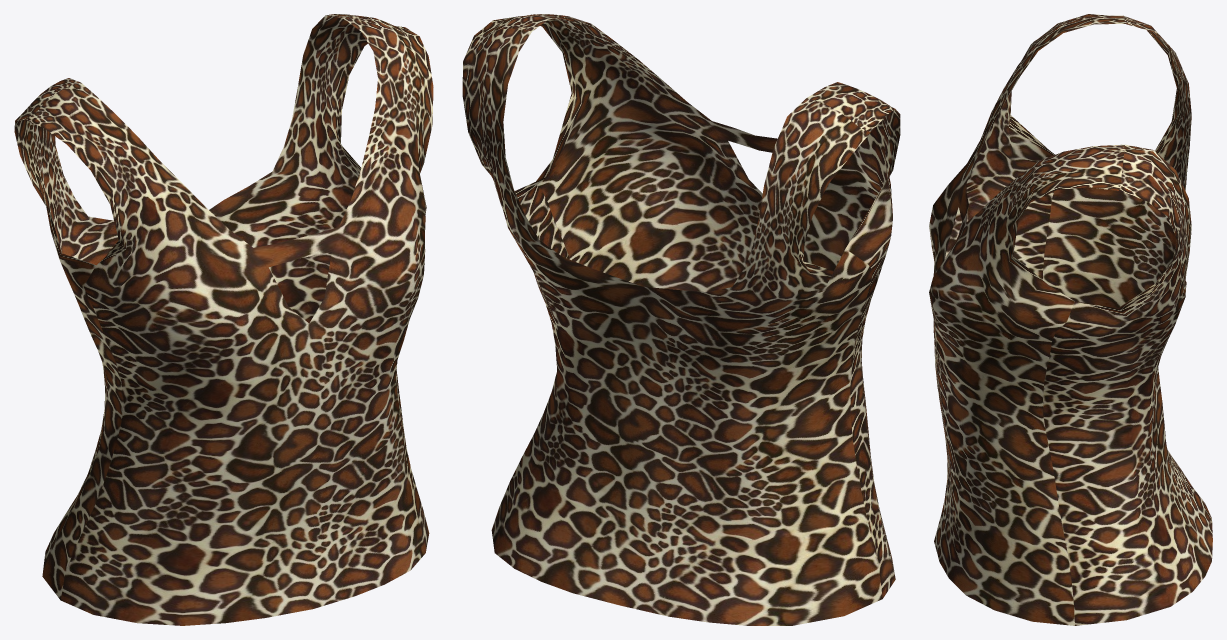
Rendered from top_tank.gltf.
The picture shows the model from 3 angles, left to right: view 1: azimuth 30°, elevation 25°; view 2: azimuth 150°, elevation 25°; view 3: azimuth 270°, elevation 25°; orthographic projection. The views are drawn at different scales.
Parts seen in each view (by area): view 1: top_tank; view 2: top_tank; view 3: top_tank.
Boxes of the visible parts, x1,y1,x2,y2 form: top_tank: (14, 14, 433, 625); top_tank: (462, 14, 900, 625); top_tank: (929, 14, 1212, 625).
Bounding box in the file's own units: 0.3712 × 0.4555 × 0.2547.
1 material, 1 textured.
